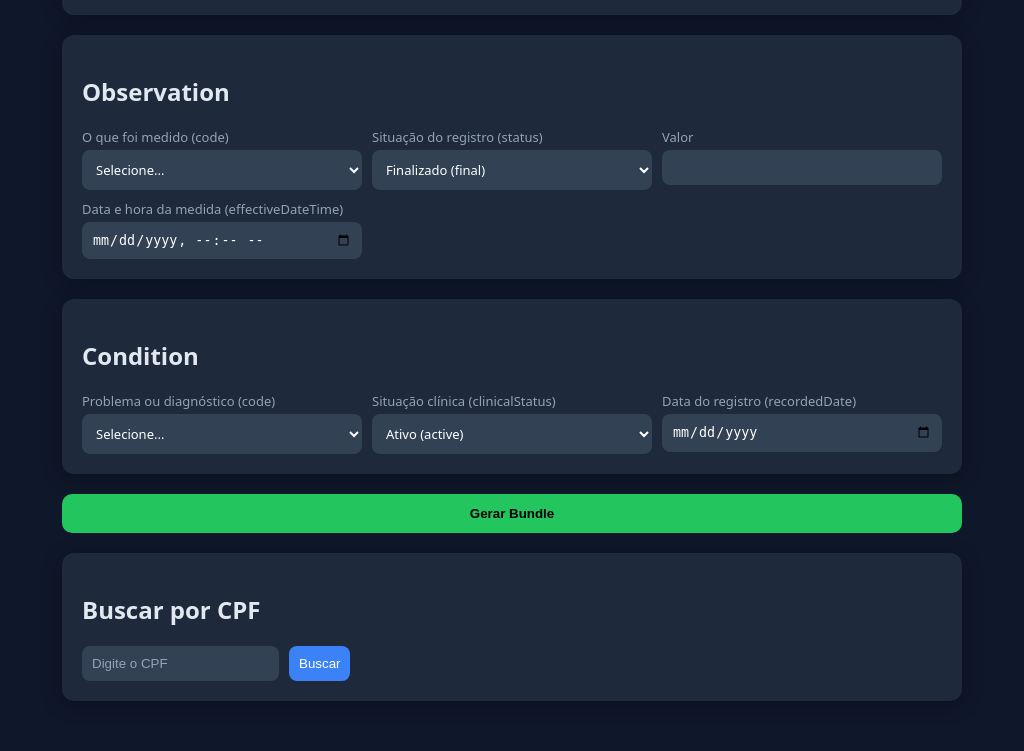
Test: enviar ao servidor de testes pede confirmação e mostra os recursos criados
(page scrolled)
Click the button "Gerar Bundle" at (512, 514), box x1=62 y1=494 x2=962 y2=533
(page scrolled)
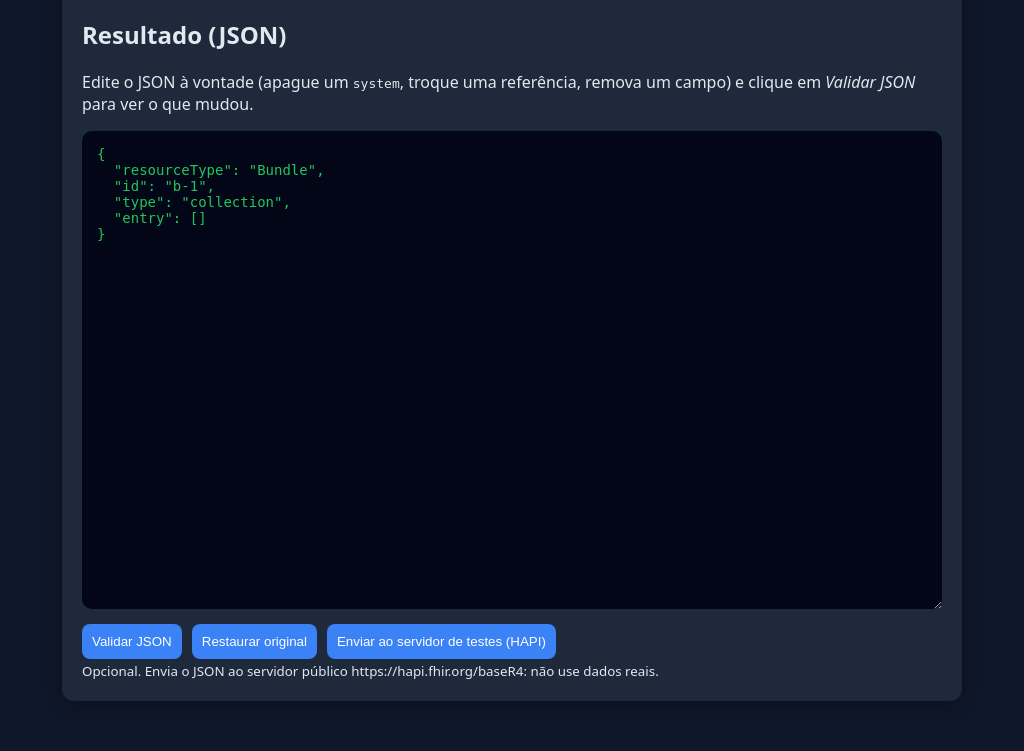
Expected: the heading "Resultado (JSON)" is shown, x1=82 y1=18 x2=286 y2=51
Click the button "Enviar ao servidor de testes (HAPI)" at (441, 641), box x1=327 y1=624 x2=556 y2=659
(page scrolled)
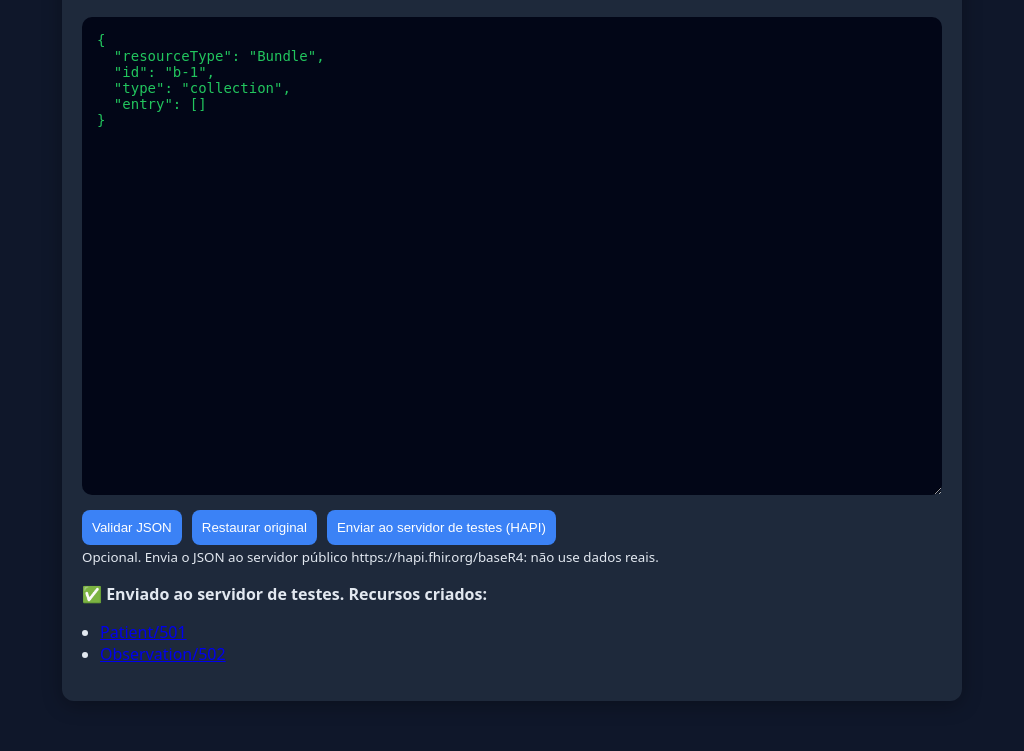
Expected: the text "✅ Enviado ao servidor de testes. Recursos criados:" is shown, x1=82 y1=583 x2=487 y2=605
Expected: the link "Observation/502" is shown, x1=100 y1=643 x2=226 y2=665
